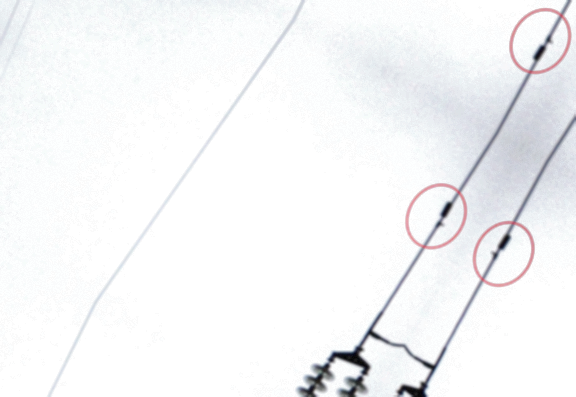damper_defect: (530, 27, 556, 64), (488, 232, 512, 265), (430, 200, 453, 232)
